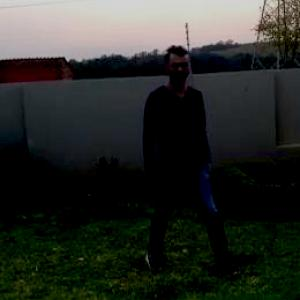follow: (127, 44, 203, 278)
